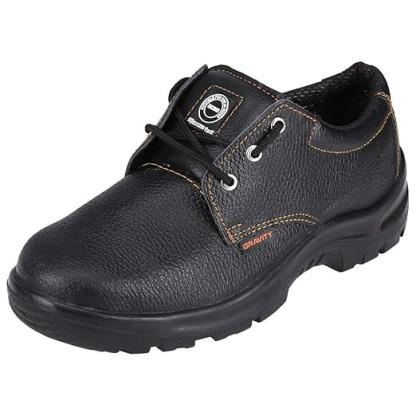bota: (3, 56, 416, 358)
